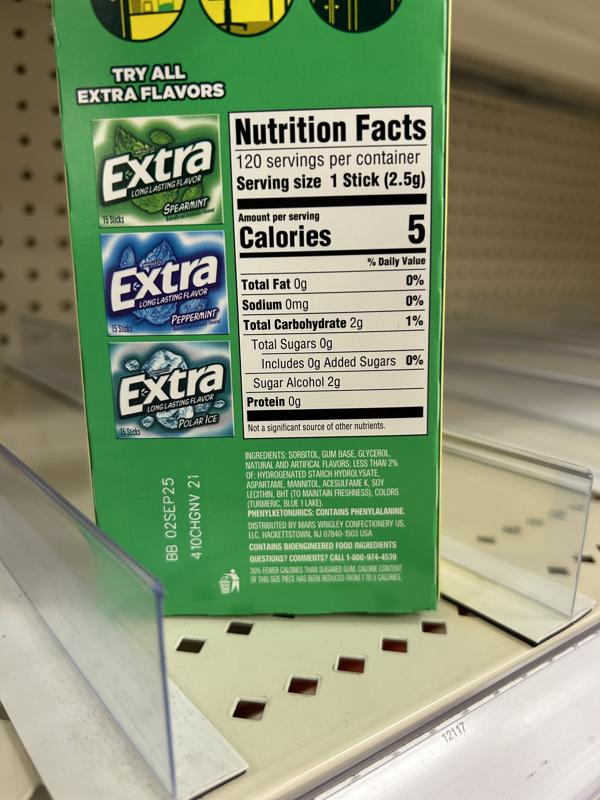ingredients: (242, 448, 403, 510)
